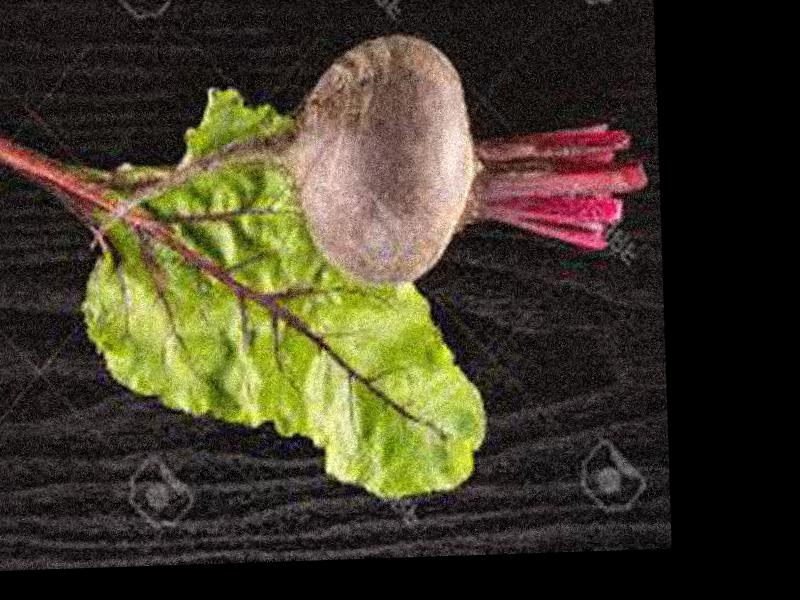Beet: (85, 27, 651, 295)
